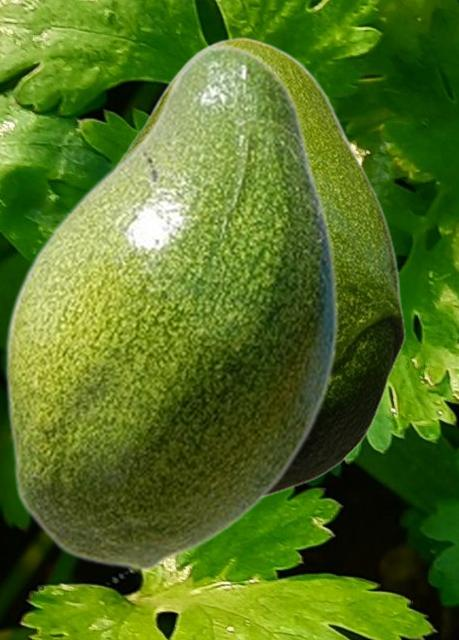avocado: (4, 42, 339, 571), (115, 36, 405, 501)
